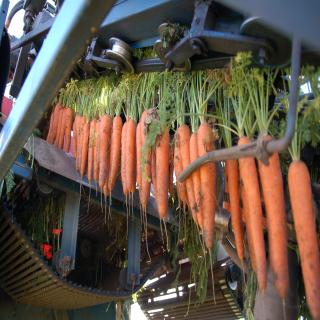Wortel: (155, 123, 172, 223), (111, 115, 124, 184), (126, 120, 137, 193), (81, 122, 91, 180)
